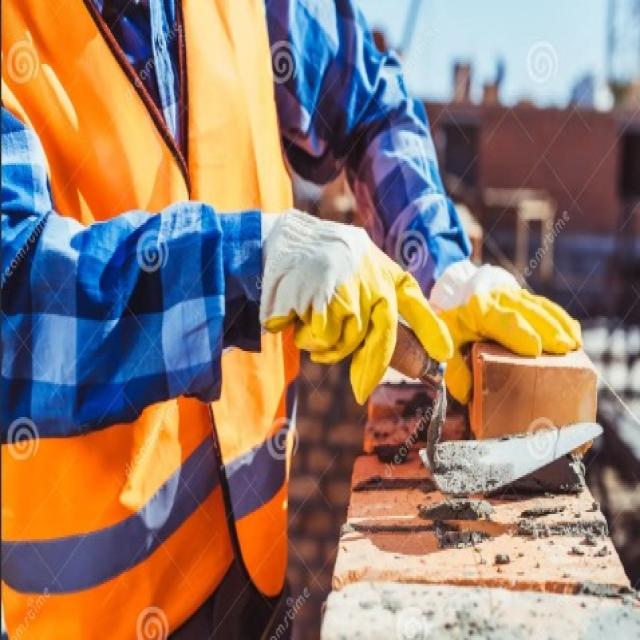gloved: (257, 206, 454, 406), (426, 258, 582, 405)
